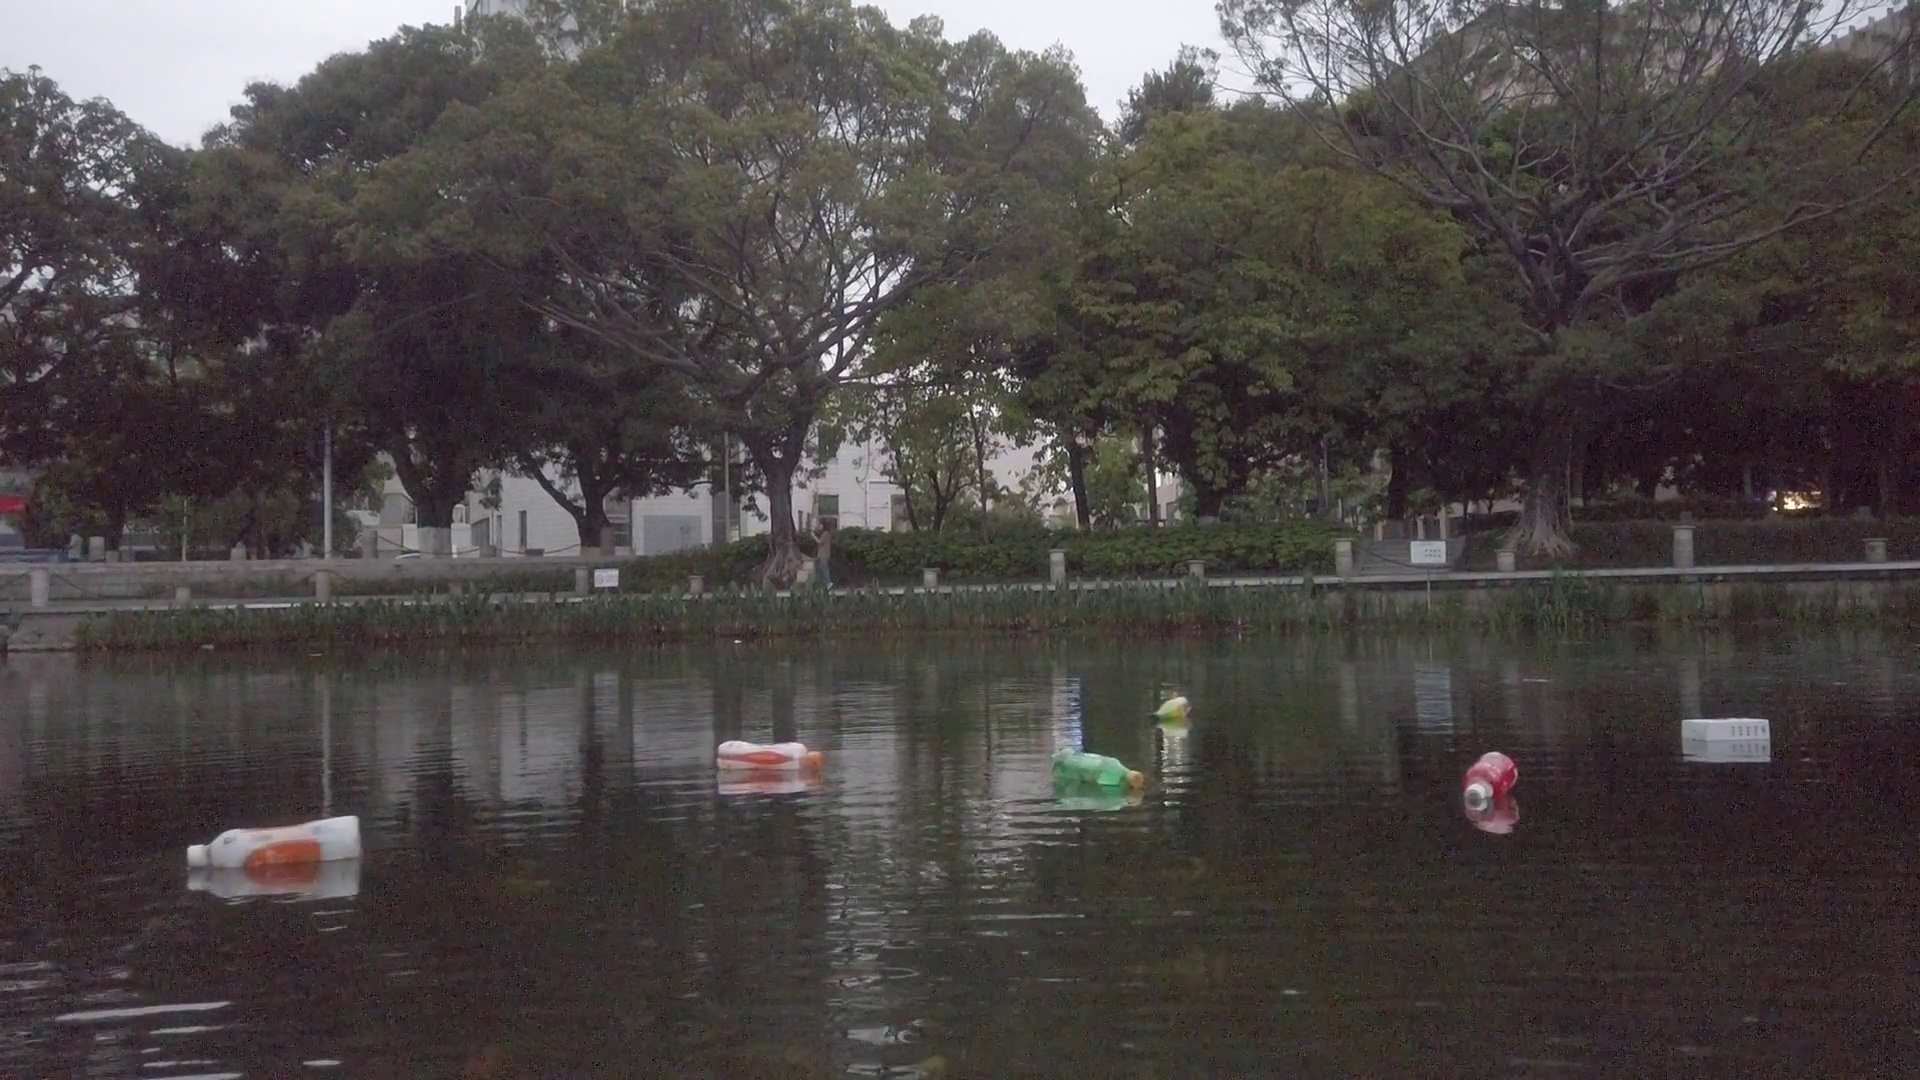bottle: (183, 819, 363, 868), (1050, 745, 1145, 791), (713, 738, 825, 775), (1461, 752, 1519, 812), (1681, 716, 1772, 746), (1149, 694, 1192, 721)
